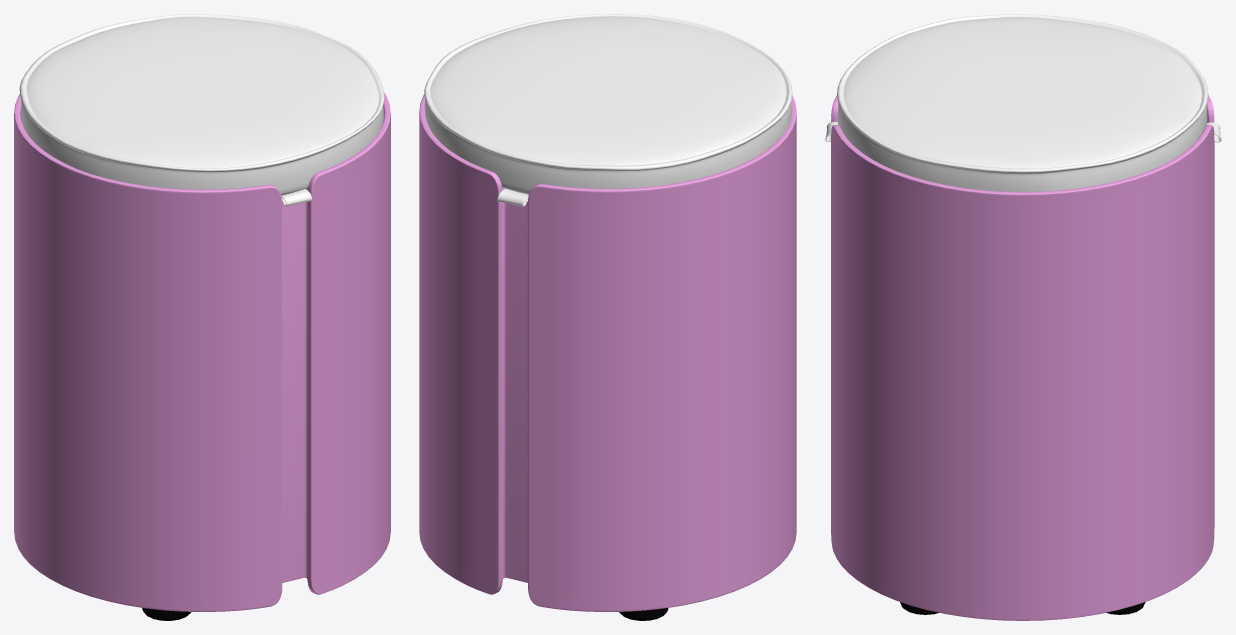
File: eurolegno_amarcord_cestino_fbx_upZ.fbx
3 renders of one model, left to right at view 1: azimuth 30°, elevation 25°; view 2: azimuth 150°, elevation 25°; view 3: azimuth 270°, elevation 25°, orthographic.
Parts seen in each view (by area): view 1: eurolegno_amarcord_cestino; view 2: eurolegno_amarcord_cestino; view 3: eurolegno_amarcord_cestino.
Boxes of the visible parts, x1,y1,x2,y2 form: eurolegno_amarcord_cestino: (14, 14, 390, 620); eurolegno_amarcord_cestino: (419, 14, 796, 620); eurolegno_amarcord_cestino: (825, 14, 1221, 620).
Size of the model in its own units: 32.35 by 33.5 by 44.42.
